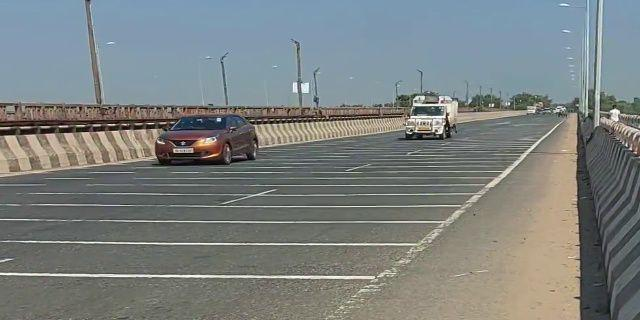Car: (150, 111, 261, 166)
Minitruck: (397, 93, 460, 142)
